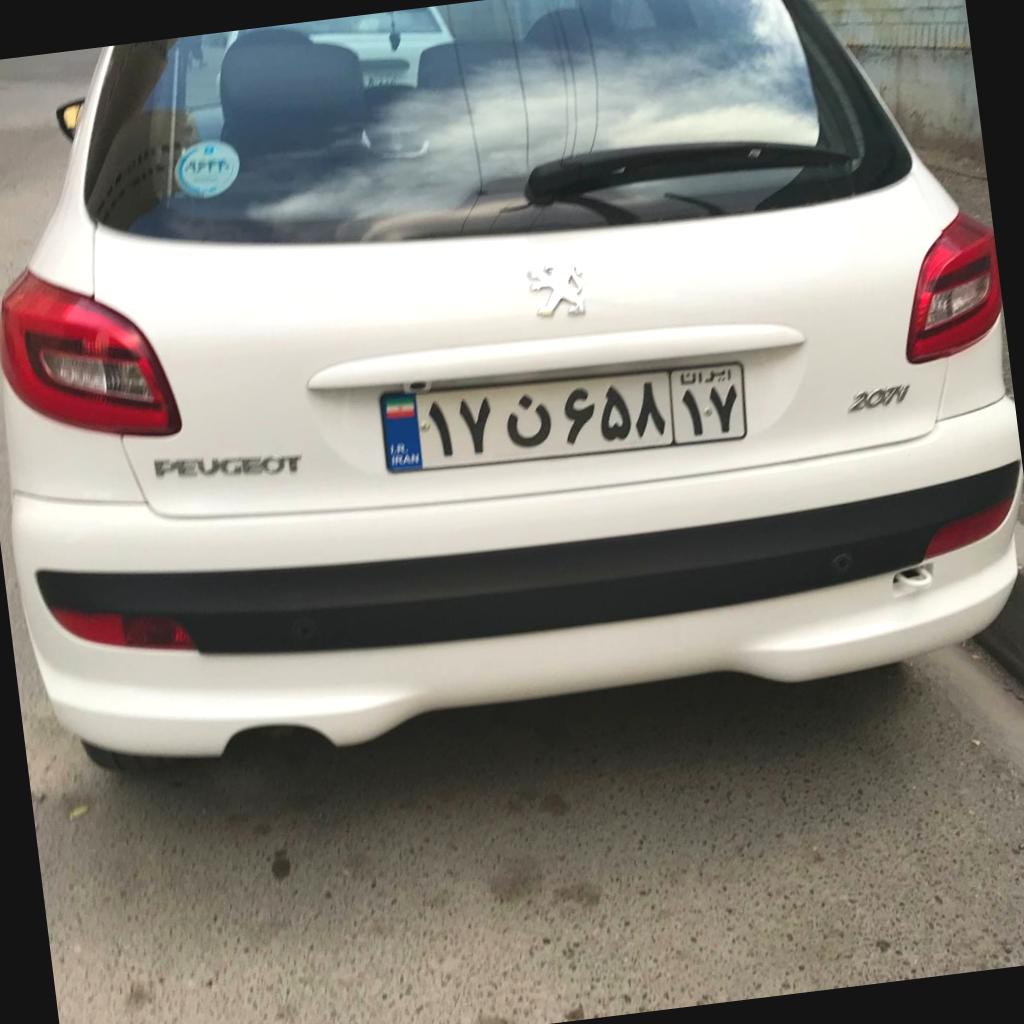Plates: (378, 362, 748, 473)
